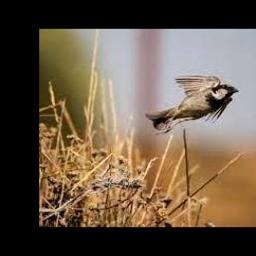Sparrow: (145, 74, 238, 135)
